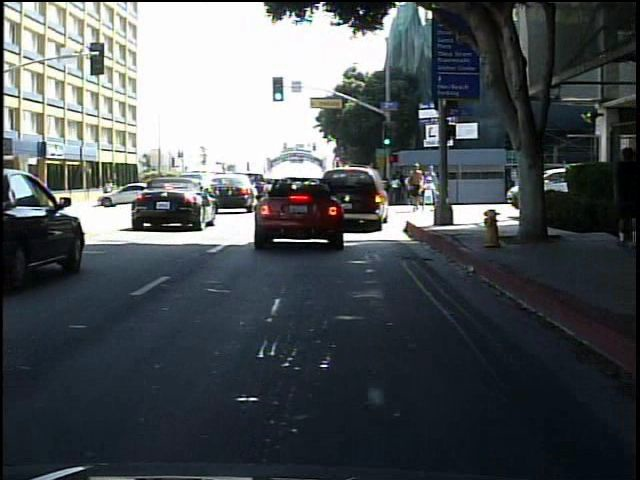person: (605, 138, 634, 251), (405, 161, 426, 214), (420, 177, 436, 209), (101, 178, 115, 193)
